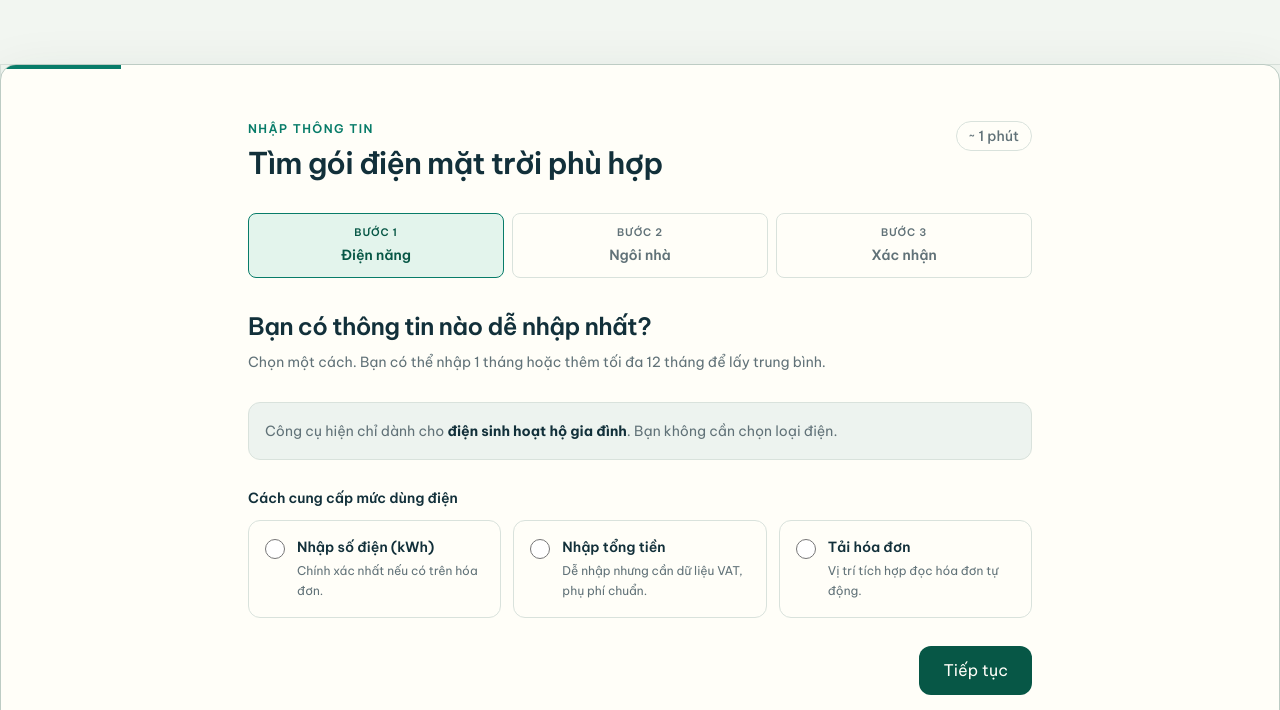
Scenario: SolarCalculator › chặn kỳ hóa đơn tương lai ngay tại bước điện năng
Click the radio button labelled "Nhập số điện (kWh) Chính xác nhất nếu có trên hóa đơn.".
click(275, 549)  # box [265,539,285,559]
(page scrolled)
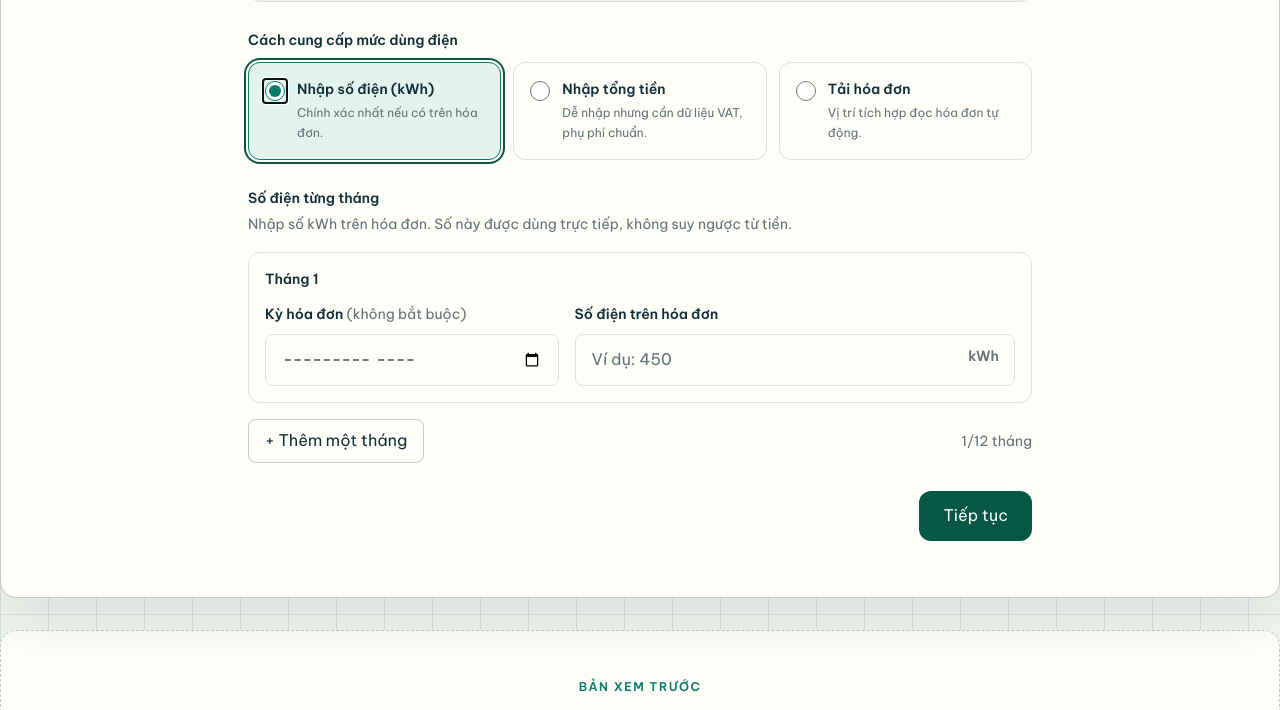
Type "9999-12" into the field labelled "Kỳ hóa đơn (không bắt buộc)".
click(412, 360); type("9999-12")  # box [265,334,559,386]
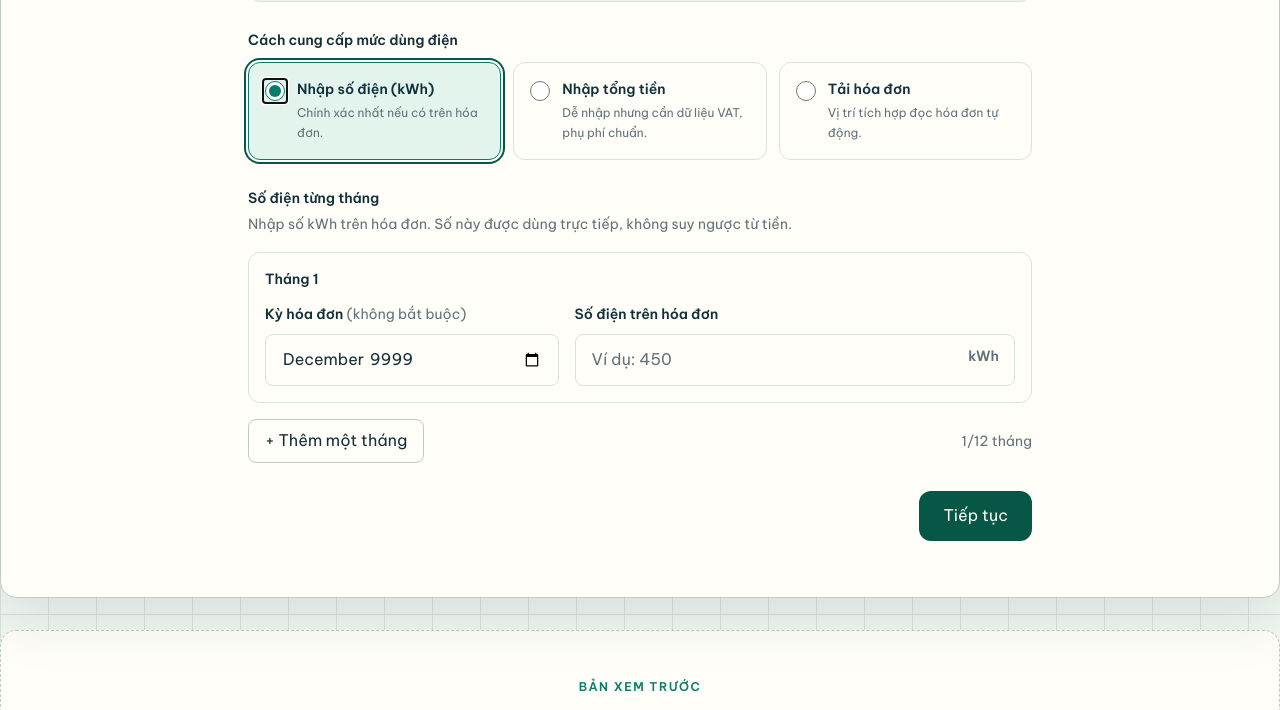
Type "450" into the number field labelled "Số điện trên hóa đơn".
click(795, 360); type("450")  # box [575,334,1015,386]
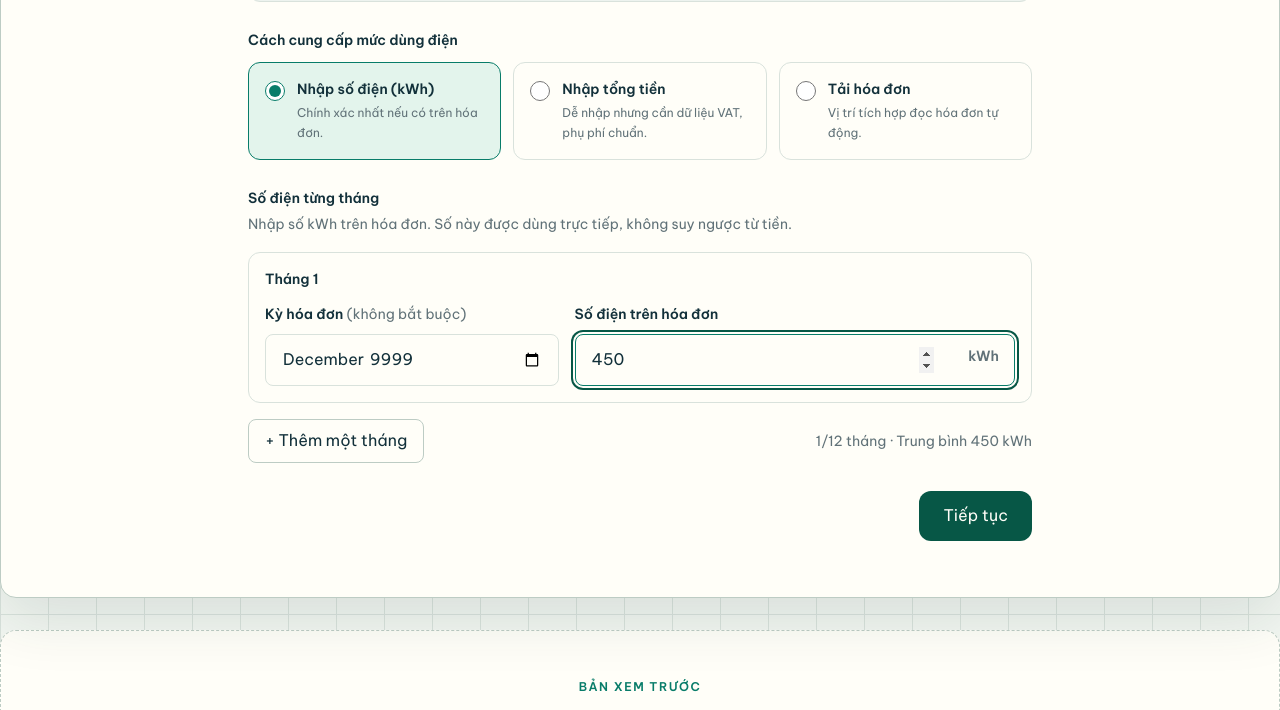
Click the button "Tiếp tục".
click(976, 516)  # box [919,491,1032,541]
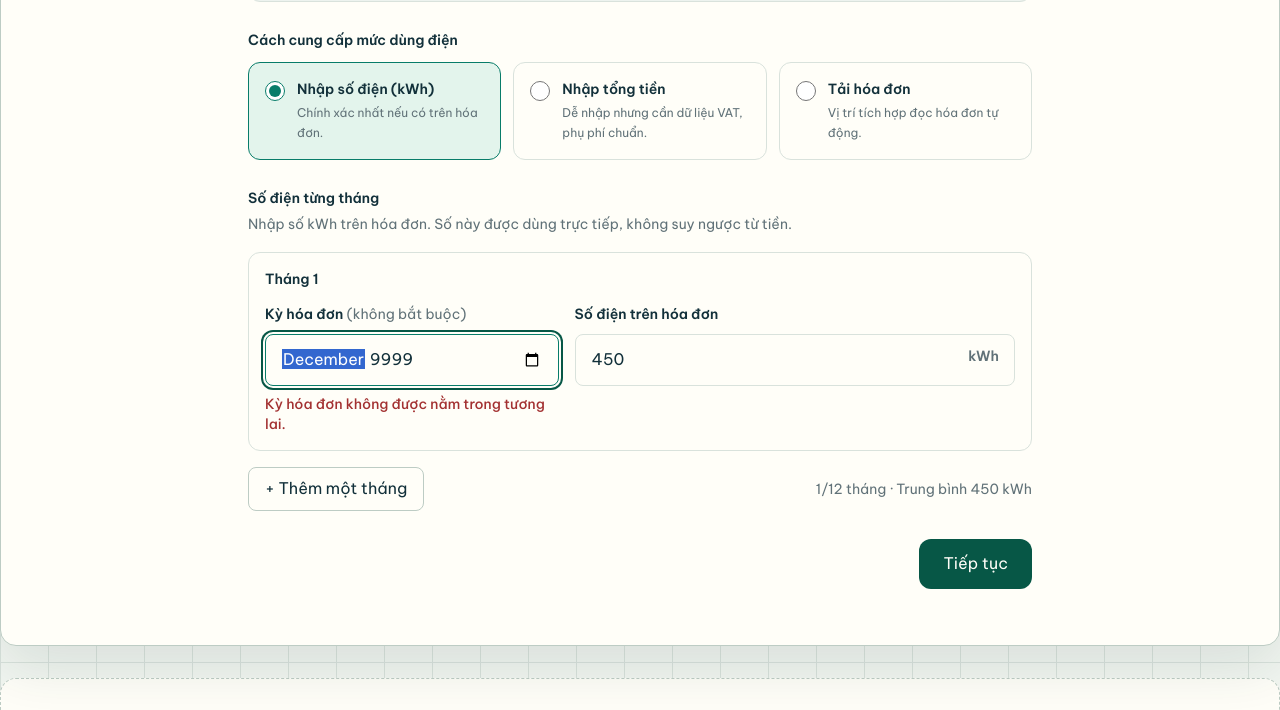
Now the text "Kỳ hóa đơn không được nằm trong tương lai." is shown, box [265,394,559,434]
